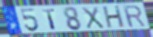5: (19, 8, 40, 33)
8: (63, 6, 82, 31)
H: (103, 5, 126, 30)
R: (122, 4, 148, 29)
T: (41, 8, 57, 31)
X: (81, 6, 107, 30)
